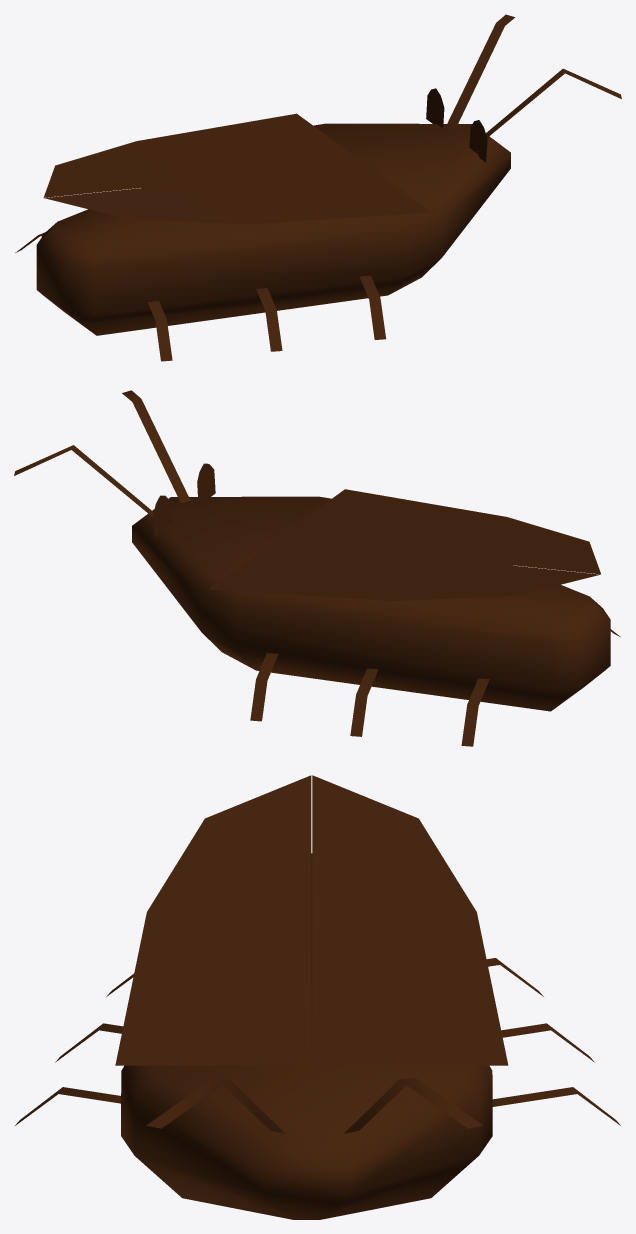
The model's file is cucaracha_corregida.fbx.
3 renders of one model, top to bottom at view 1: azimuth 30°, elevation 25°; view 2: azimuth 150°, elevation 25°; view 3: azimuth 270°, elevation 25°, orthographic. The views are drawn at different scales.
Parts seen in each view (by area): view 1: cucaracha; view 2: cucaracha; view 3: cucaracha.
Part boxes in pixels (x1,y1,x2,y2): cucaracha: (15,14,621,361); cucaracha: (14,390,620,746); cucaracha: (15,775,620,1219).
Bounding box in the file's own units: 24.24 × 7.23 × 16.71.
